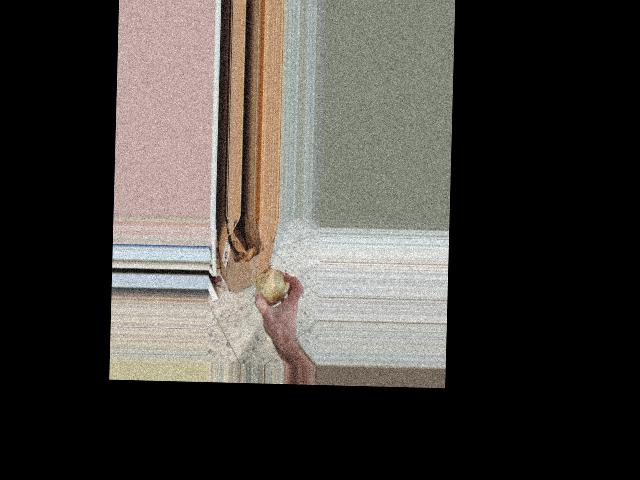onion: (254, 265, 290, 309)
